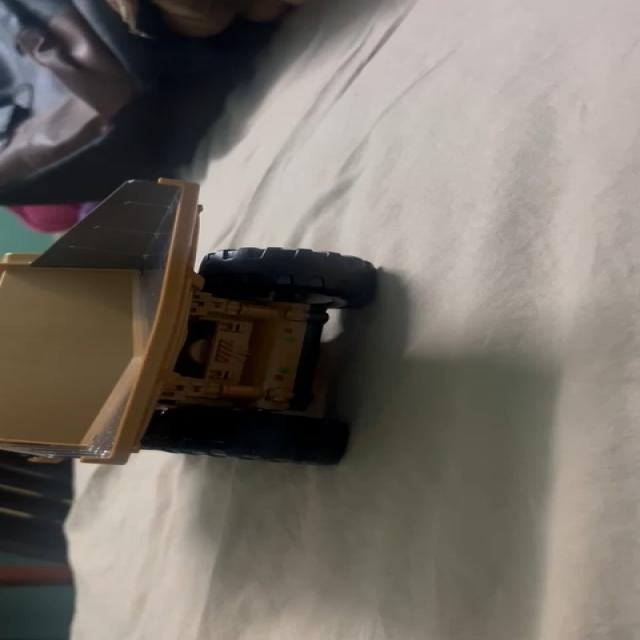dump_truck: (4, 176, 363, 464)
